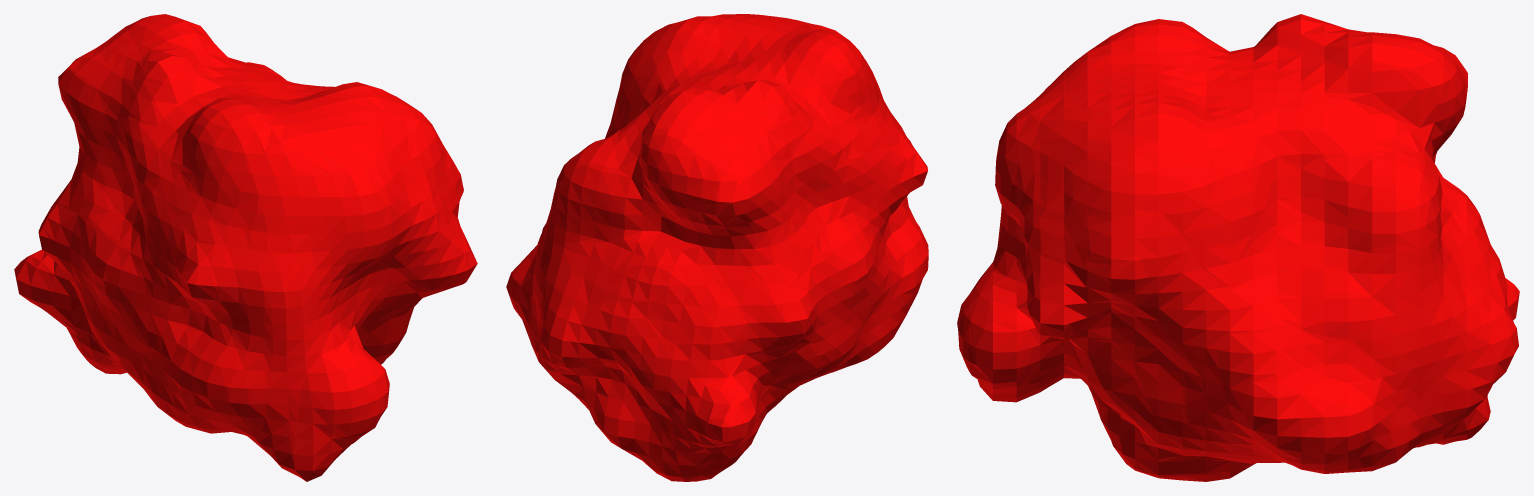
The model's file is cydB_coarse.dae.
3 views of the same model, side by side, from view 1: azimuth 30°, elevation 25°; view 2: azimuth 150°, elevation 25°; view 3: azimuth 270°, elevation 25° (orthographic). The views are drawn at different scales.
Parts seen in each view (by area): view 1: cydB; view 2: cydB; view 3: cydB.
Part boxes in pixels (box(x1,y1,x2,y2)): cydB: box(14, 14, 477, 481); cydB: box(506, 14, 928, 481); cydB: box(957, 14, 1519, 481).
Bounding box in the file's own units: 46.64 × 50 × 60.55.
